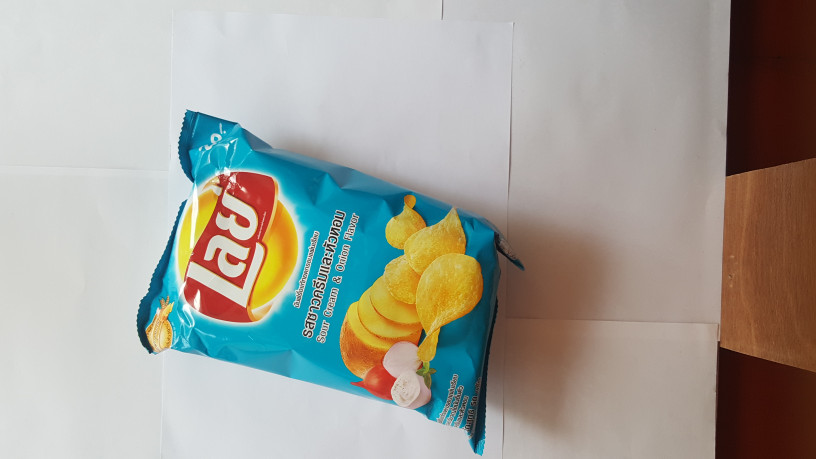lays-onion: (120, 107, 527, 459)
